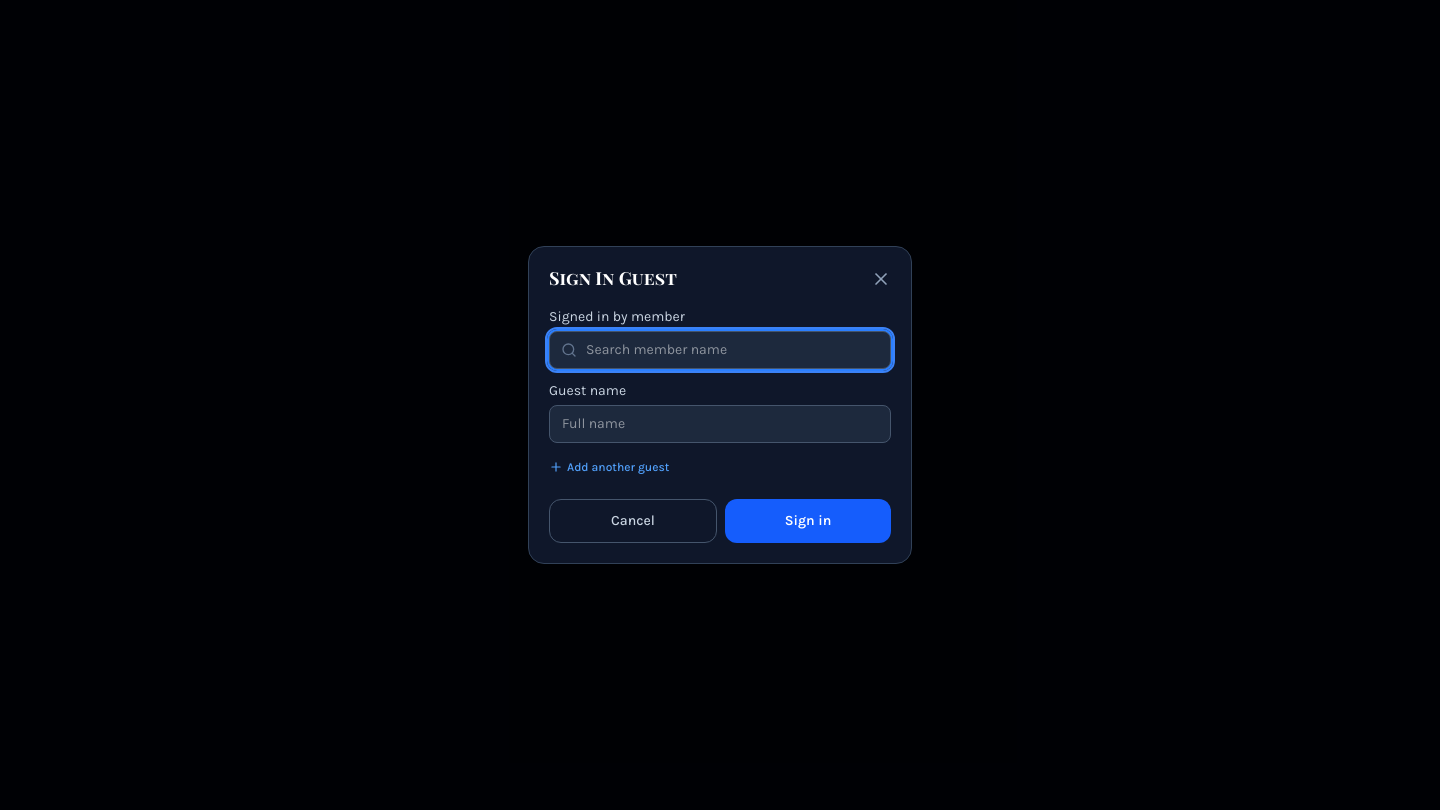
Test: GuestSignInModal › requires a member before signing in
The image size is (1440, 810).
Type "Jane Doe" into the field named "Guest 1 name". click: (720, 424)
box: [549,405,891,443]
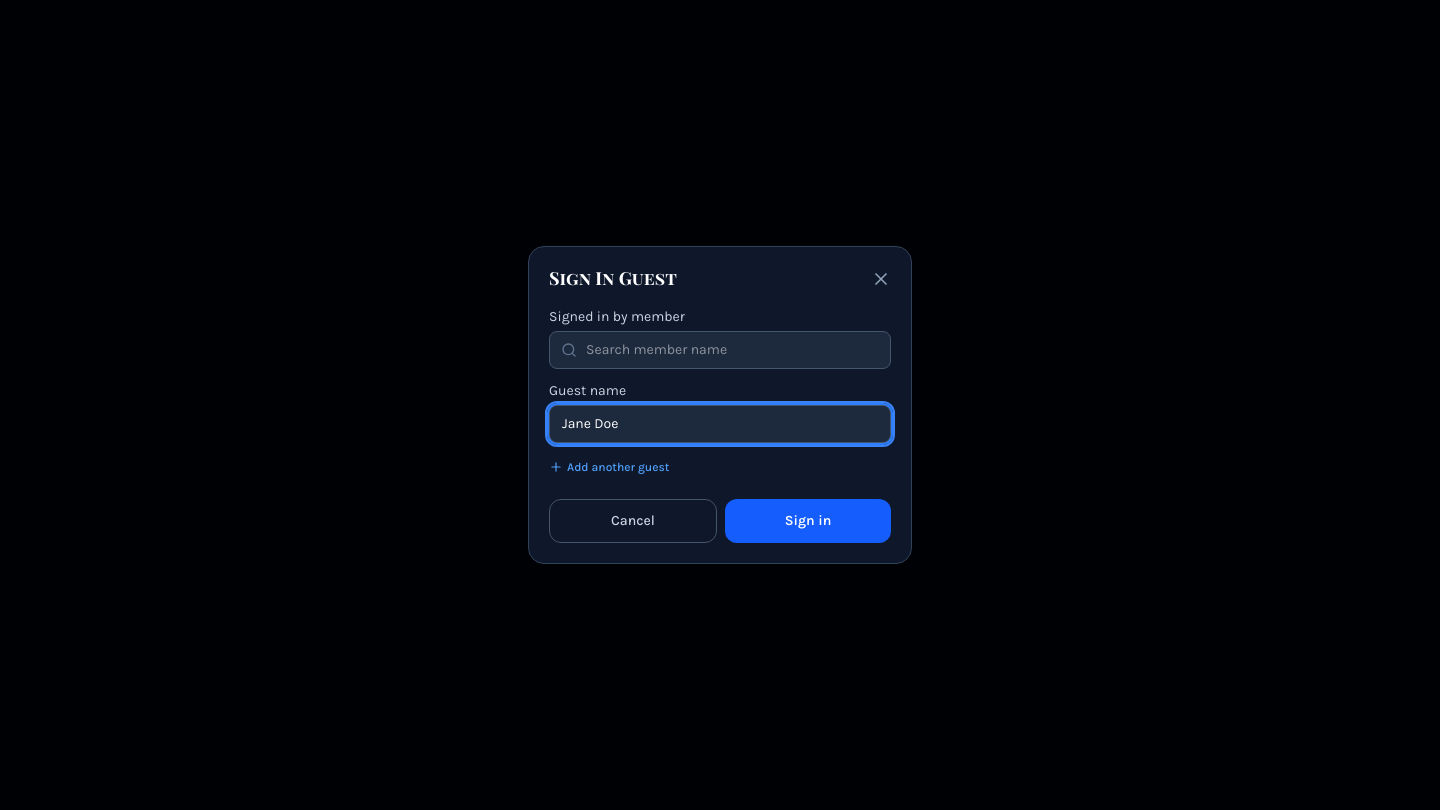
Click the button "Sign in". click: (808, 521)
box: [725,499,891,543]
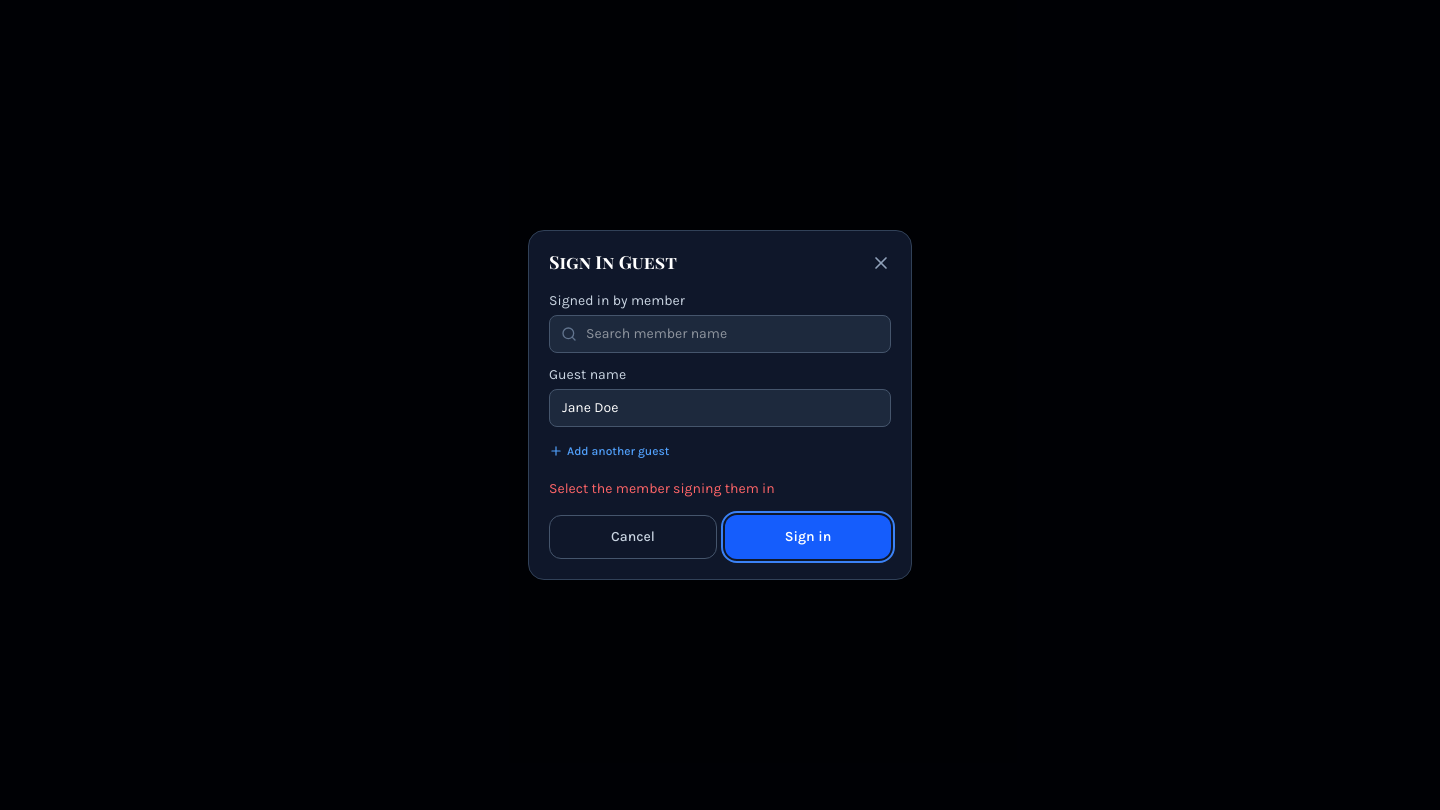
Check: the message shows "Select the member", box [549,480,775,497]
